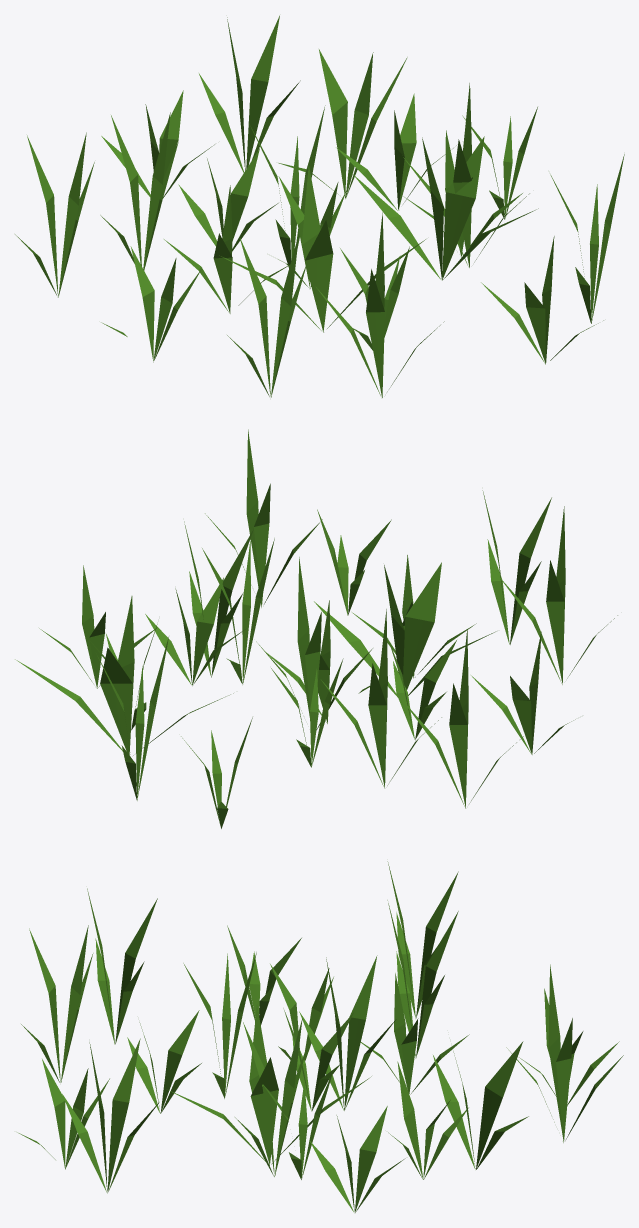
File: grass_02.glb
3 views of the same model, one above another, from view 1: azimuth 30°, elevation 25°; view 2: azimuth 150°, elevation 25°; view 3: azimuth 270°, elevation 25° (orthographic). The views are drawn at different scales.
Parts seen in each view (by area): view 1: grass.038, grass.028, grass.018, grass.040, grass.031, grass.030, grass.010, grass.025, grass.036, grass.014, grass.003, grass.026 (+9 smaller); view 2: grass.018, grass.028, grass.010, grass.031, grass.030, grass.014, grass.025, grass.015, grass.022, grass.024, grass.040, grass.036 (+8 smaller); view 3: grass.014, grass.028, grass.015, grass.038, grass.040, grass.025, grass.031, grass.024, grass.010, grass.012, grass.030, grass.026 (+9 smaller).
Boxes of the visible parts, left/top/right/bottom form: grass.038: left=353, top=136, right=538, bottom=280; grass.028: left=278, top=49, right=407, bottom=198; grass.018: left=219, top=164, right=425, bottom=332; grass.040: left=199, top=15, right=300, bottom=172; grass.031: left=227, top=234, right=306, bottom=397; grass.030: left=15, top=132, right=94, bottom=297; grass.010: left=100, top=112, right=178, bottom=270; grass.025: left=316, top=212, right=444, bottom=397; grass.036: left=101, top=246, right=201, bottom=362; grass.014: left=550, top=154, right=624, bottom=323; grass.003: left=336, top=93, right=456, bottom=210; grass.026: left=481, top=236, right=603, bottom=364; grass.018: left=314, top=562, right=496, bottom=697; grass.028: left=15, top=596, right=233, bottom=755; grass.010: left=321, top=609, right=441, bottom=788; grass.031: left=498, top=506, right=617, bottom=684; grass.030: left=402, top=630, right=523, bottom=808; grass.014: left=205, top=429, right=322, bottom=607; grass.025: left=482, top=490, right=551, bottom=644; grass.015: left=256, top=557, right=372, bottom=730; grass.022: left=145, top=577, right=245, bottom=685; grass.024: left=184, top=521, right=253, bottom=677; grass.040: left=96, top=637, right=168, bottom=800; grass.036: left=471, top=631, right=575, bottom=754; grass.014: left=62, top=1038, right=159, bottom=1193; grass.028: left=433, top=1041, right=528, bottom=1169; grass.015: left=299, top=955, right=396, bottom=1110; grass.038: left=168, top=1004, right=371, bottom=1165; grass.040: left=506, top=964, right=623, bottom=1142; grass.025: left=21, top=925, right=93, bottom=1082; grass.031: left=87, top=888, right=157, bottom=1044; grass.024: left=235, top=1018, right=307, bottom=1176; grass.010: left=387, top=900, right=458, bottom=1058; grass.012: left=309, top=1106, right=405, bottom=1212; grass.030: left=387, top=861, right=458, bottom=1018; grass.026: left=17, top=1059, right=109, bottom=1169.
Bounding box in the file's own units: 2.14 × 0.7398 × 2.34.
